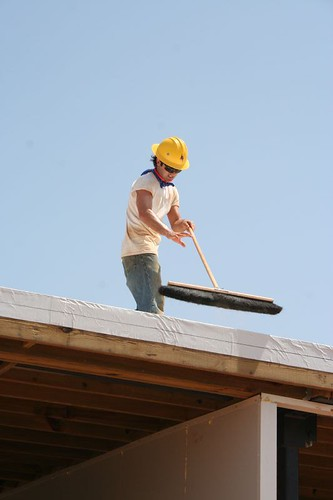person hardhat: (122, 133, 206, 327)
